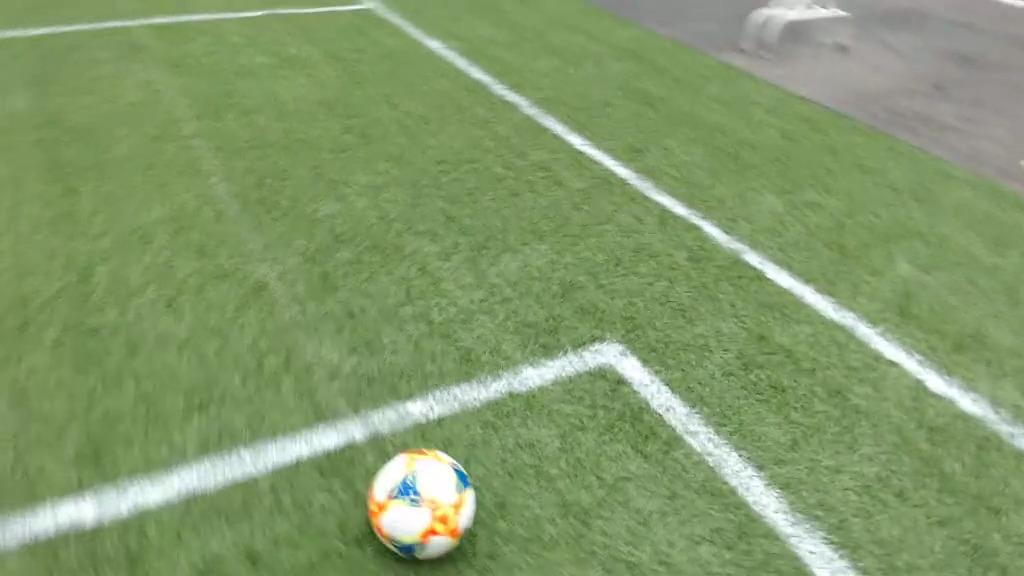ball: (357, 435, 489, 568)
